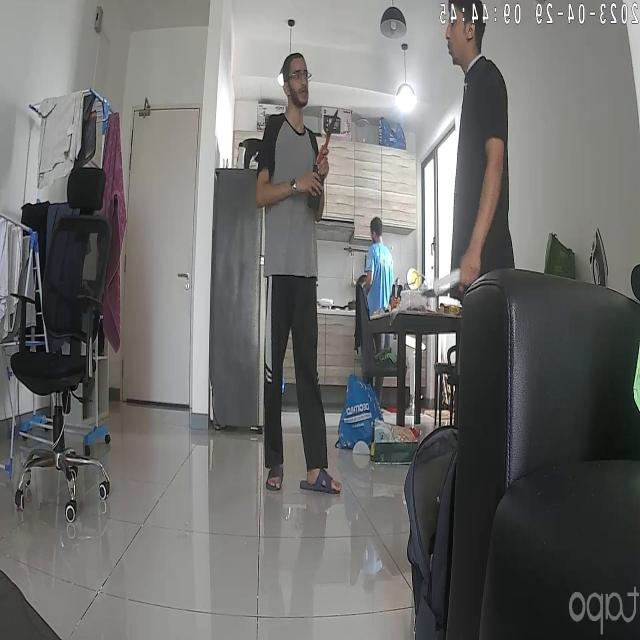Knife: (414, 262, 468, 308), (318, 107, 347, 166)
